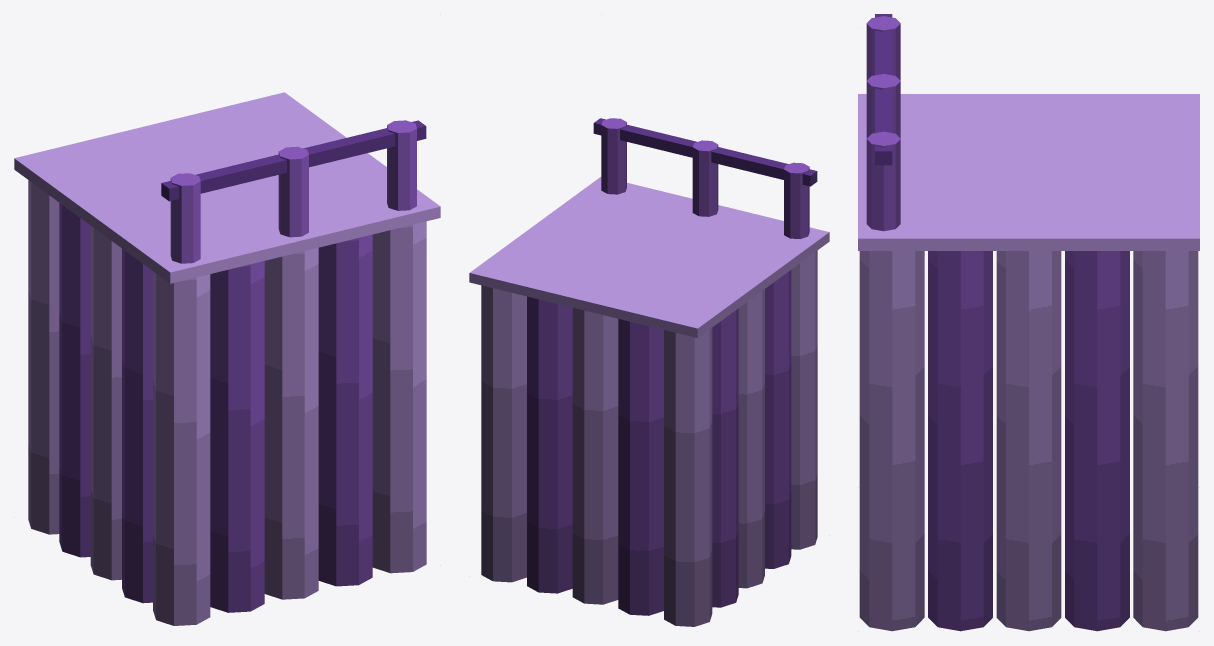
Rendered from perimeter_wall_crystal_f11.glb.
The picture shows the model from 3 angles, left to right: view 1: azimuth 30°, elevation 25°; view 2: azimuth 150°, elevation 25°; view 3: azimuth 270°, elevation 25°; orthographic projection. The views are drawn at different scales.
Bounding box in the file's own units: 2 × 3.9 × 2.
Materials: 1 (1 with a texture image).
